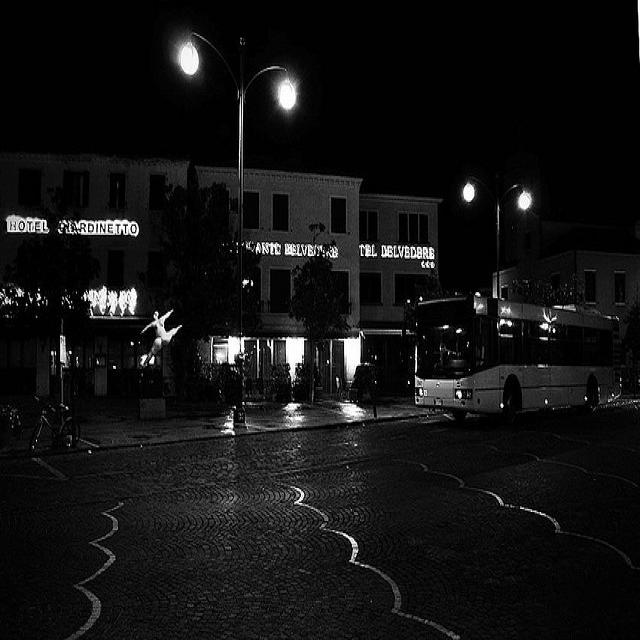Bicycle: (28, 391, 86, 470)
Bus: (409, 278, 626, 436)
